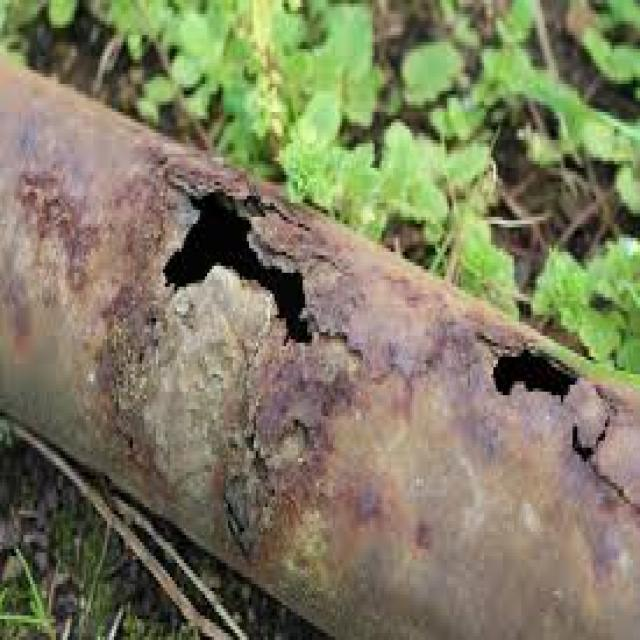crack: (575, 385, 640, 516)
hole: (157, 188, 327, 343), (477, 330, 587, 401)
